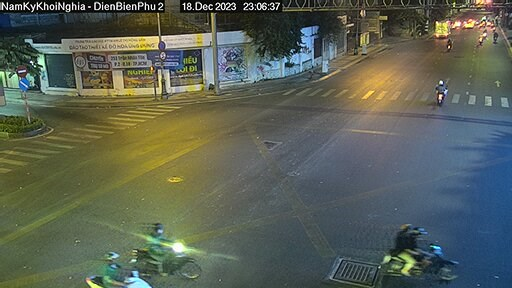motorbike: (375, 221, 466, 281), (129, 213, 204, 271), (69, 245, 159, 288), (430, 73, 458, 109), (441, 35, 457, 52)
truck: (432, 18, 453, 37)
